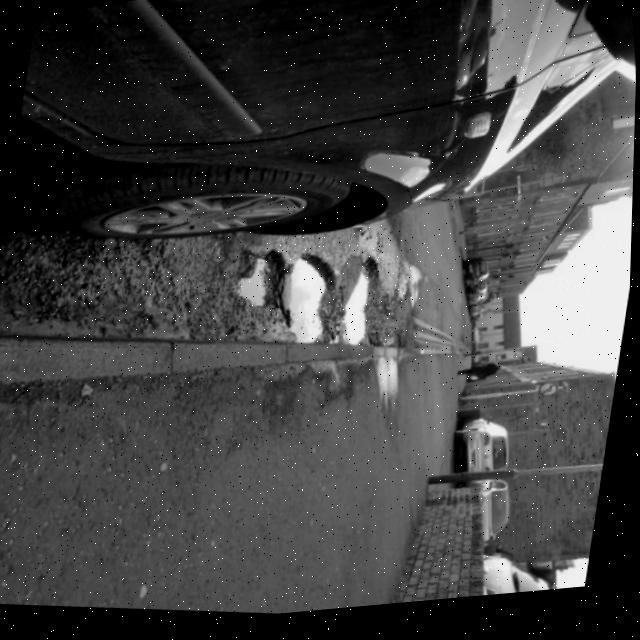Pothole: (263, 226, 352, 370), (204, 227, 288, 350), (325, 243, 399, 378)
